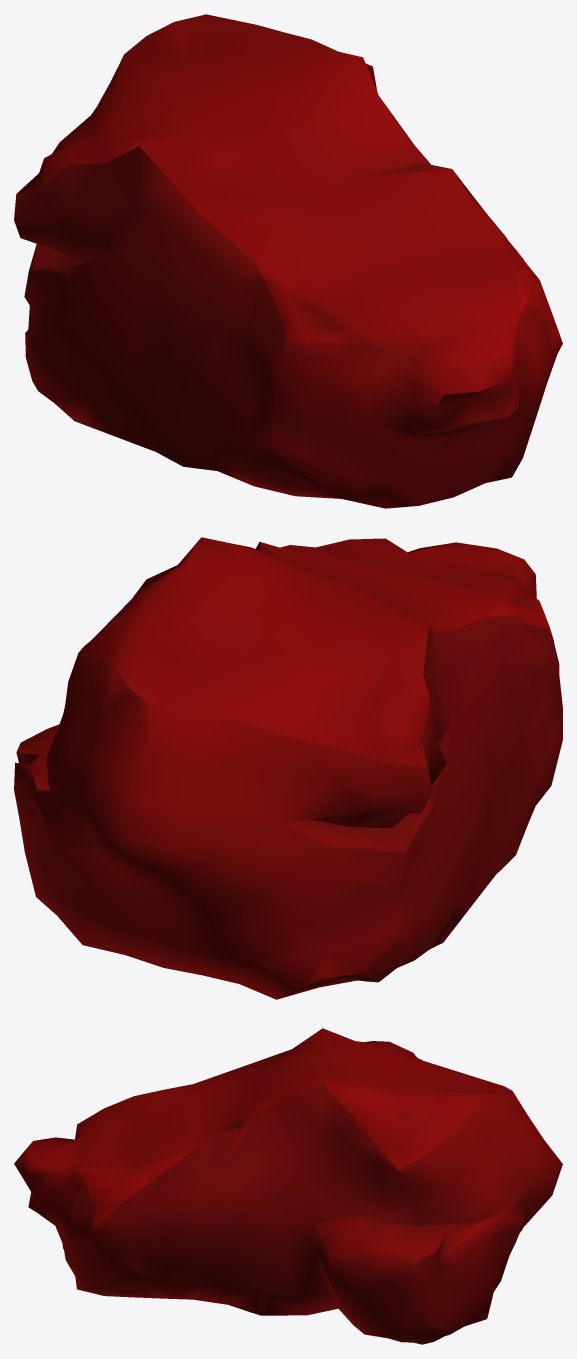
Rendered from geology-rocks-rockhuge_v6.fbx.
3 renders of one model, top to bottom at view 1: azimuth 30°, elevation 25°; view 2: azimuth 150°, elevation 25°; view 3: azimuth 270°, elevation 25°, orthographic. The views are drawn at different scales.
Visible parts, largest first — view 1: RockHuge_v6; view 2: RockHuge_v6; view 3: RockHuge_v6.
Part boxes in pixels (bbox=[...]): RockHuge_v6: bbox=[14, 14, 562, 508]; RockHuge_v6: bbox=[14, 537, 562, 999]; RockHuge_v6: bbox=[14, 1028, 562, 1344].
Bounding box in the file's own units: 24.72 × 19.41 × 39.45.
